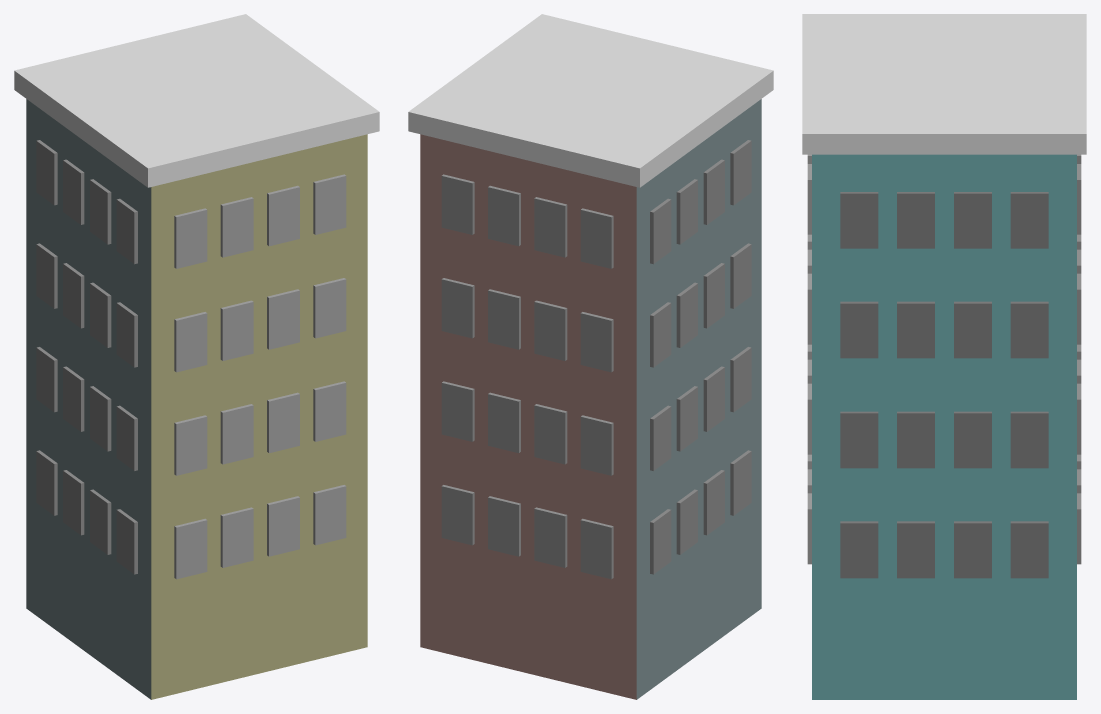
The model's file is Building 4.fbx.
3 renders of one model, left to right at view 1: azimuth 30°, elevation 25°; view 2: azimuth 150°, elevation 25°; view 3: azimuth 270°, elevation 25°, orthographic. The views are drawn at different scales.
Visible parts, largest first — view 1: Plane.001; view 2: Plane.001; view 3: Plane.001.
Boxes of the visible parts, left/top/right/bottom form: Plane.001: left=14, top=14, right=379, bottom=699; Plane.001: left=408, top=14, right=773, bottom=699; Plane.001: left=802, top=14, right=1086, bottom=699.
Bounding box in the file's own units: 375 × 830 × 375.
